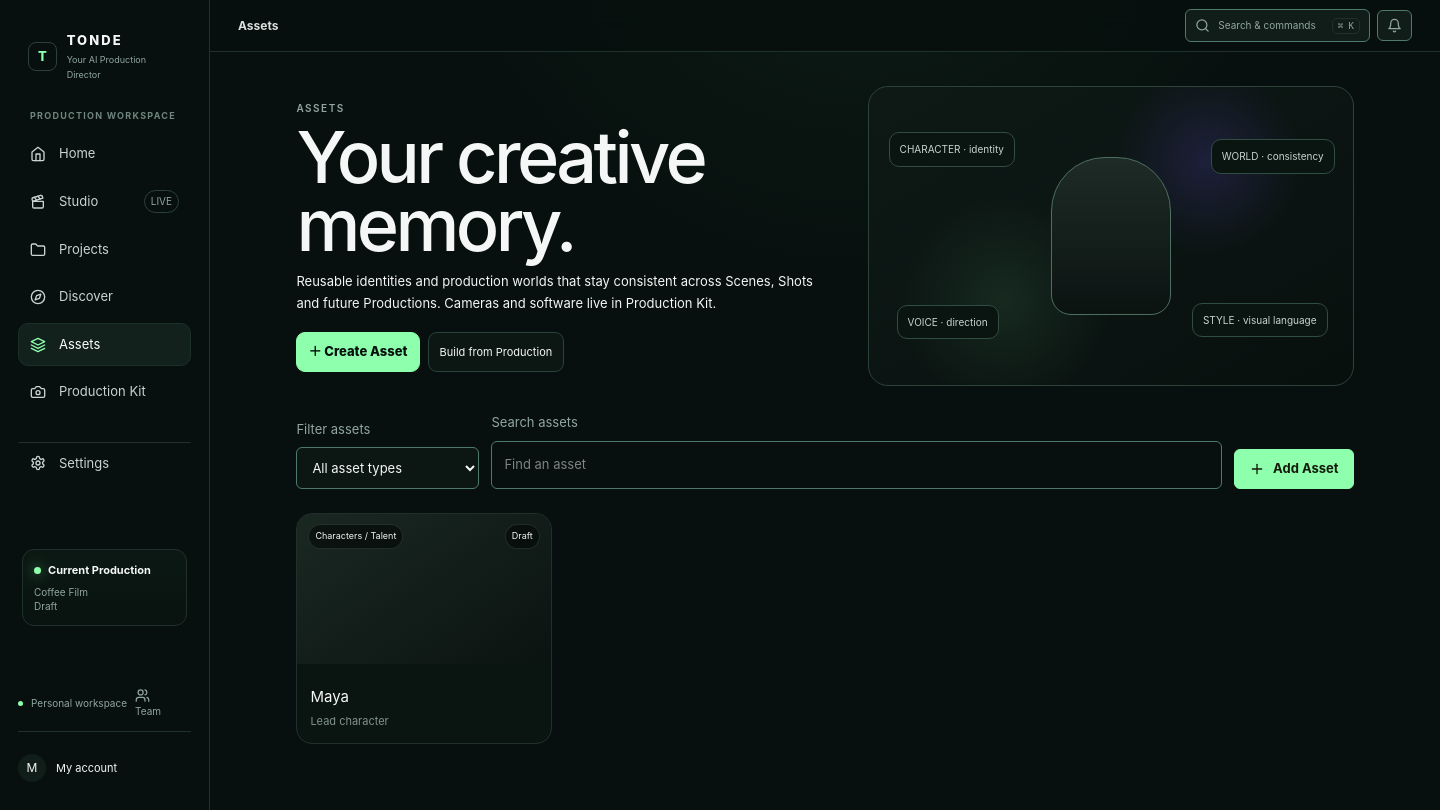
Test case: TONDE area behavior › traps focus in the asset archive confirmation and restores focus to the drawer action
Click the button "Characters / Talent Draft Maya Lead character" at (424, 628), box [296,513,552,744]
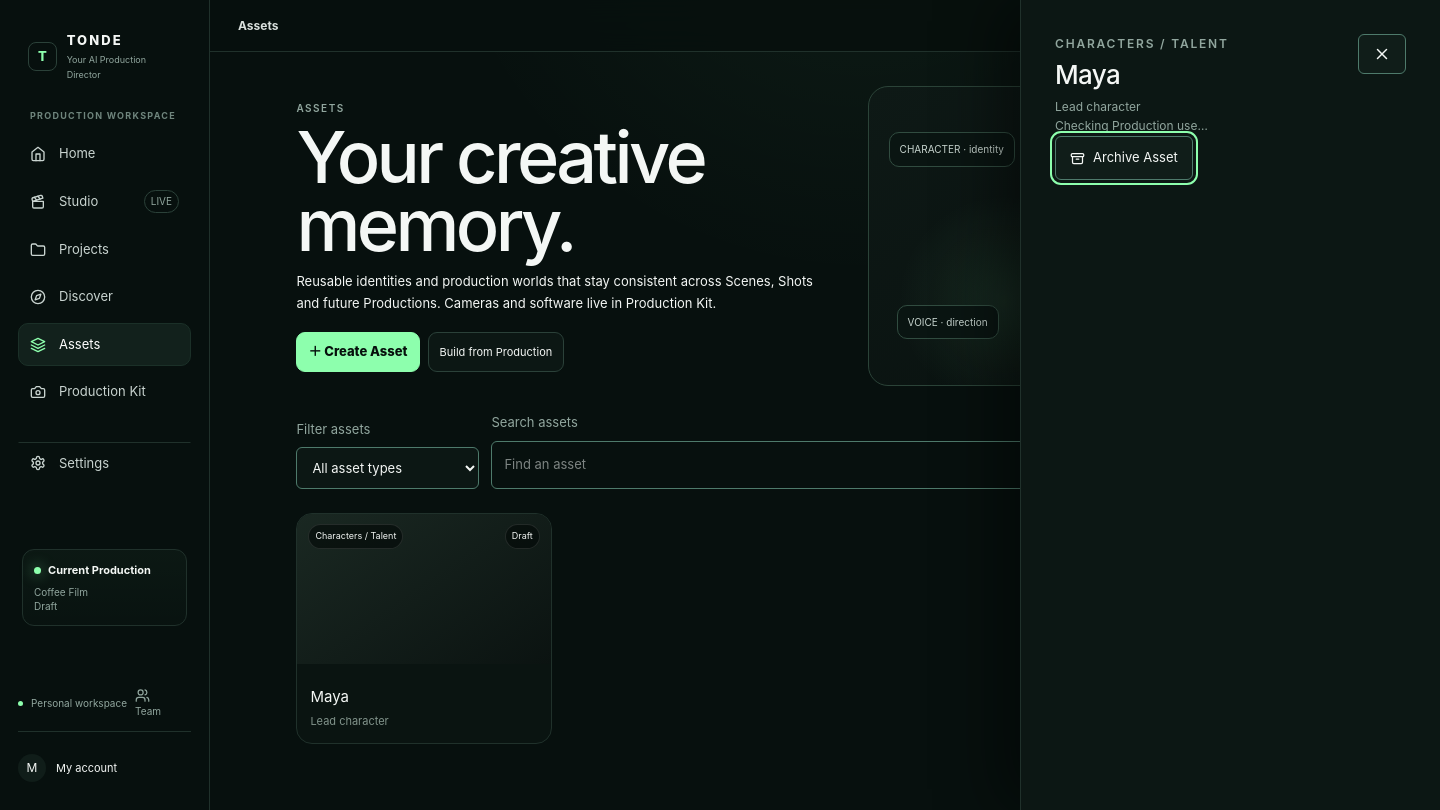
Click the button "Archive Asset" at (1124, 158), box [1055,136,1193,180]
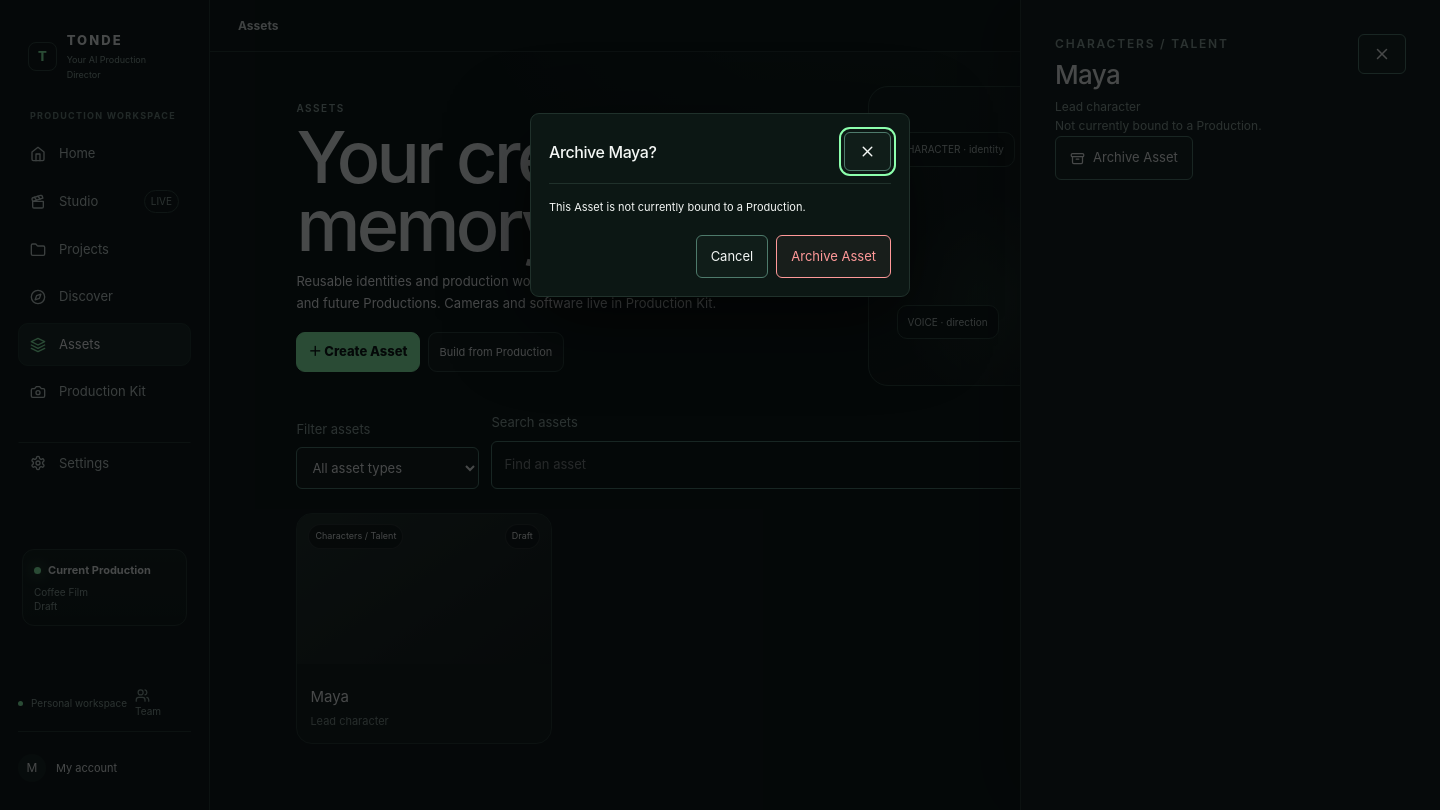
Press Tab
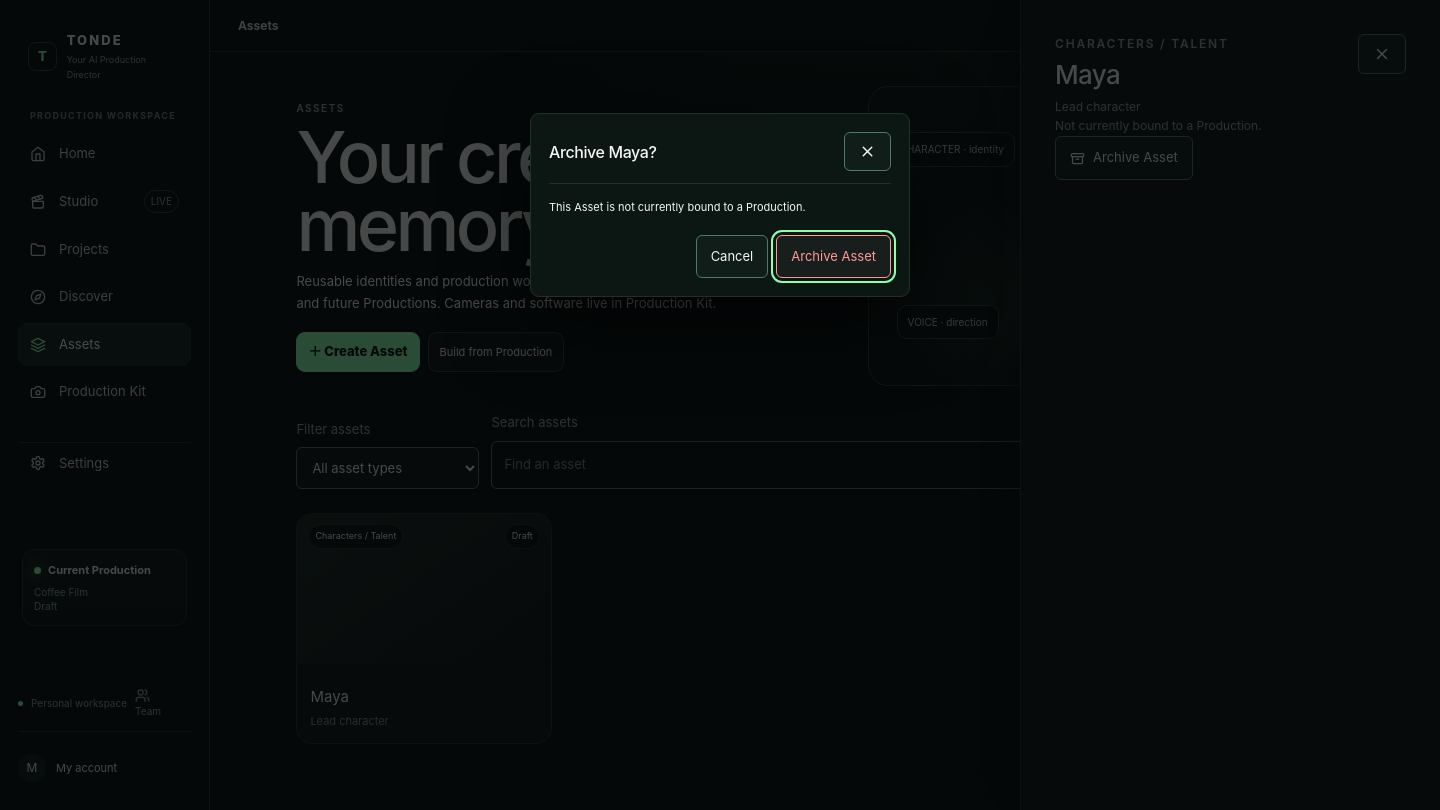
Click the button named "Cancel archive" at (868, 152), box [844,132,891,171]
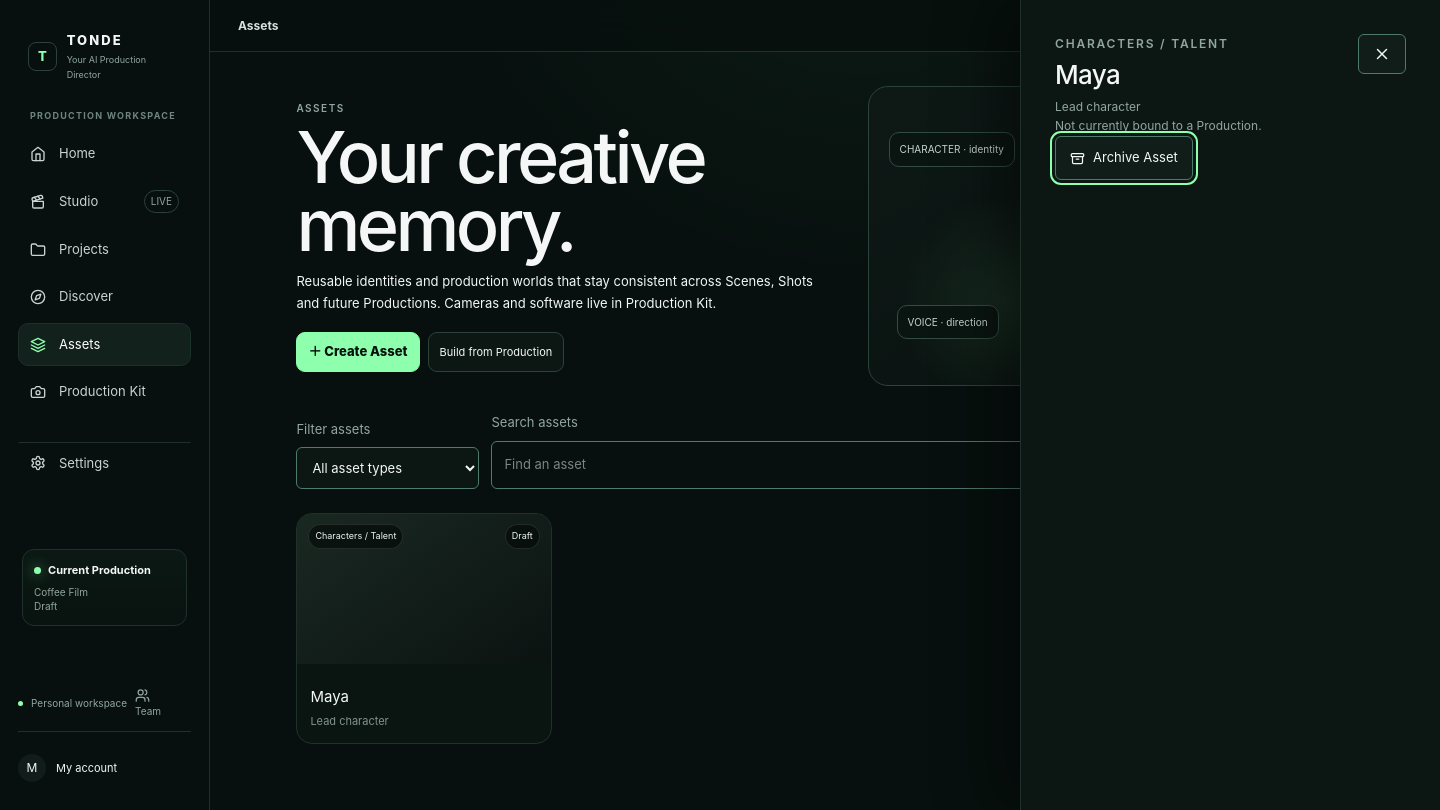
Now the heading "Archive Maya?" is gone
